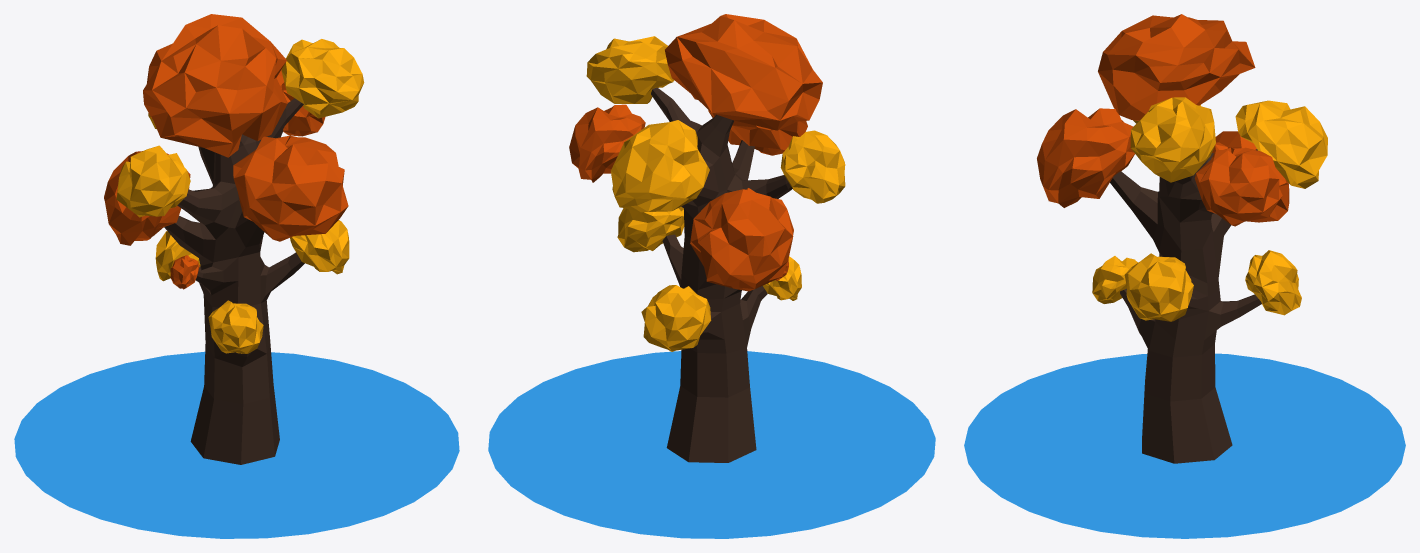
The model's file is Tree3.fbx.
The picture shows the model from 3 angles, left to right: view 1: azimuth 30°, elevation 25°; view 2: azimuth 150°, elevation 25°; view 3: azimuth 270°, elevation 25°; orthographic projection.
Parts seen in each view (by area): view 1: Icosphere.018, Circle; view 2: Icosphere.018, Circle; view 3: Icosphere.018, Circle.
Boxes of the visible parts, x1=… form: Icosphere.018: x1=104, y1=14, x2=364, y2=464; Circle: x1=14, y1=351, x2=459, y2=538; Icosphere.018: x1=569, y1=14, x2=845, y2=462; Circle: x1=488, y1=351, x2=935, y2=538; Icosphere.018: x1=1037, y1=14, x2=1327, y2=463; Circle: x1=964, y1=353, x2=1405, y2=538.
Size of the model in its own units: 591 by 623 by 591.
